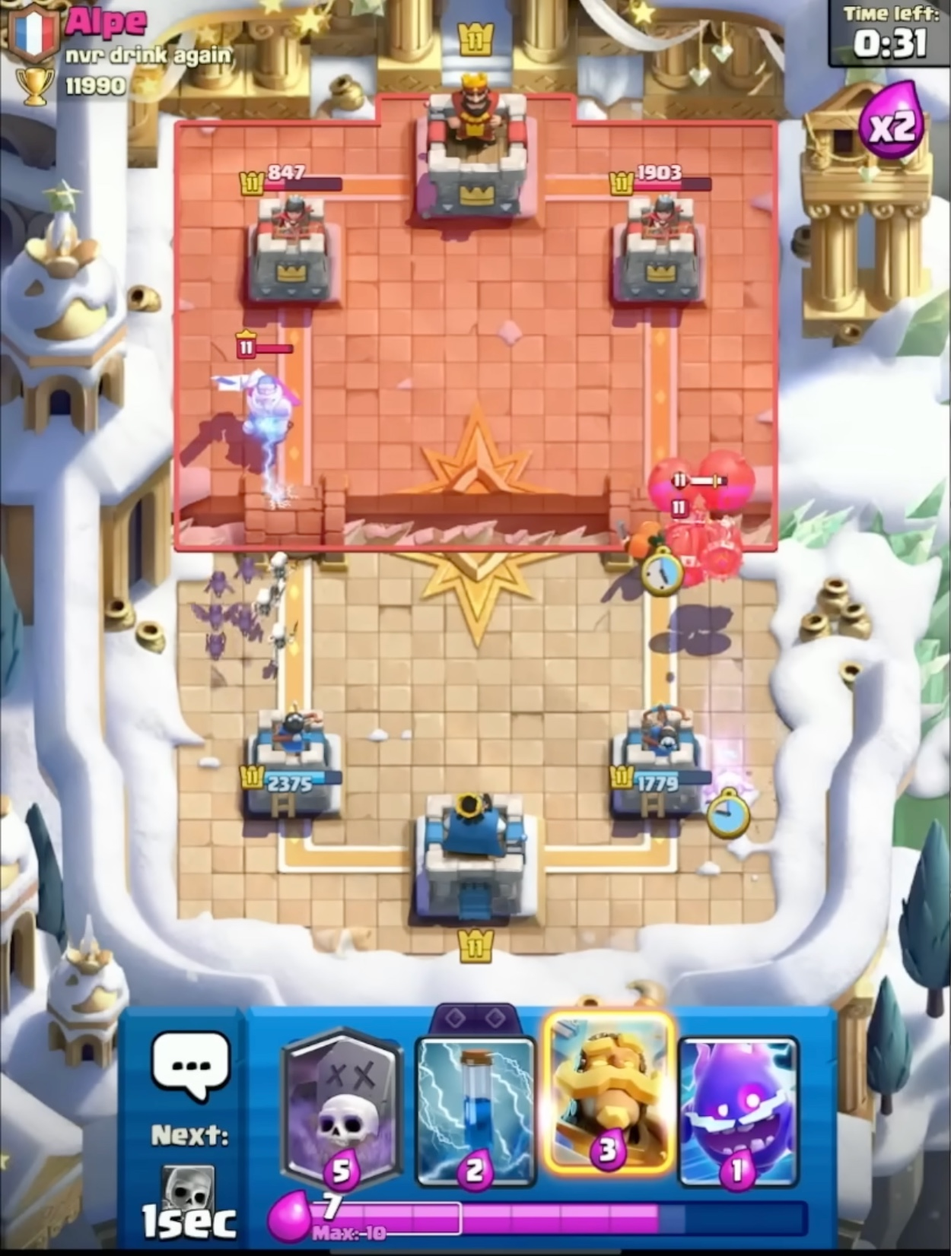evo-skeleton-barrel: (644, 458, 753, 582)
hero-knight: (212, 328, 310, 466)
